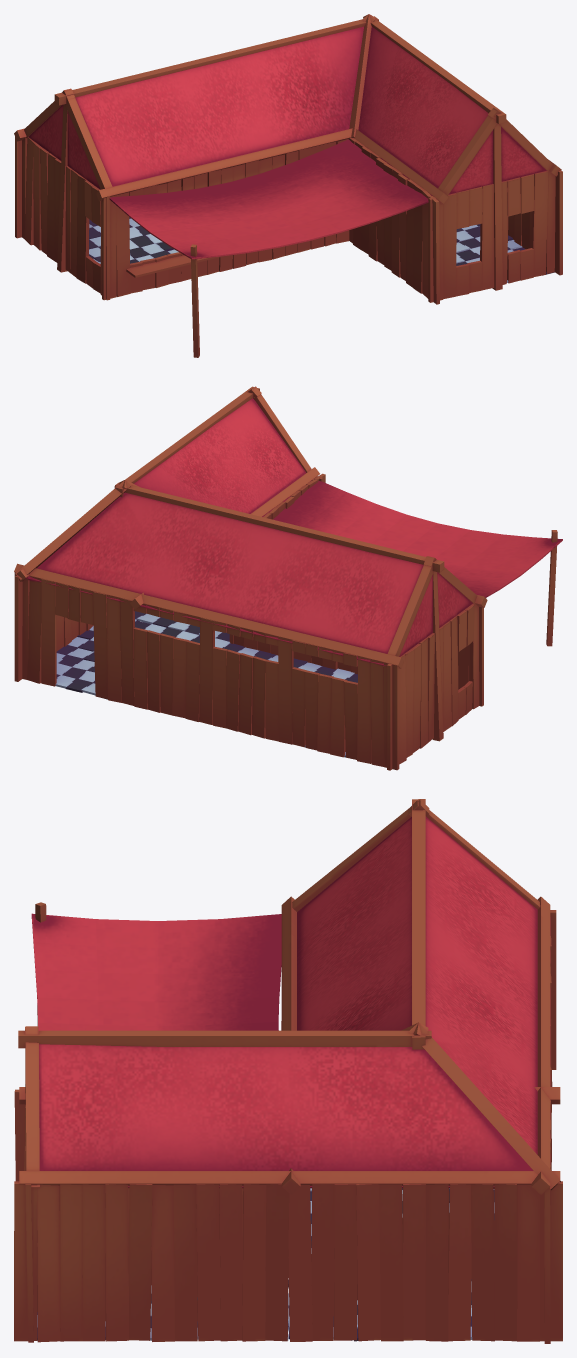
Rendered from RestaurantCabin.glb.
3 renders of one model, top to bottom at view 1: azimuth 30°, elevation 25°; view 2: azimuth 150°, elevation 25°; view 3: azimuth 270°, elevation 25°, orthographic. The views are drawn at different scales.
Parts seen in each view (by area): view 1: RestaurantCabin; view 2: RestaurantCabin; view 3: RestaurantCabin.
Part boxes in pixels (bbox=[...]): RestaurantCabin: bbox=[14, 14, 562, 357]; RestaurantCabin: bbox=[14, 386, 562, 770]; RestaurantCabin: bbox=[14, 799, 562, 1343].
Bounding box in the file's own units: 10.29 × 4.71 × 8.47.
Materials: 1 (1 with a texture image).
